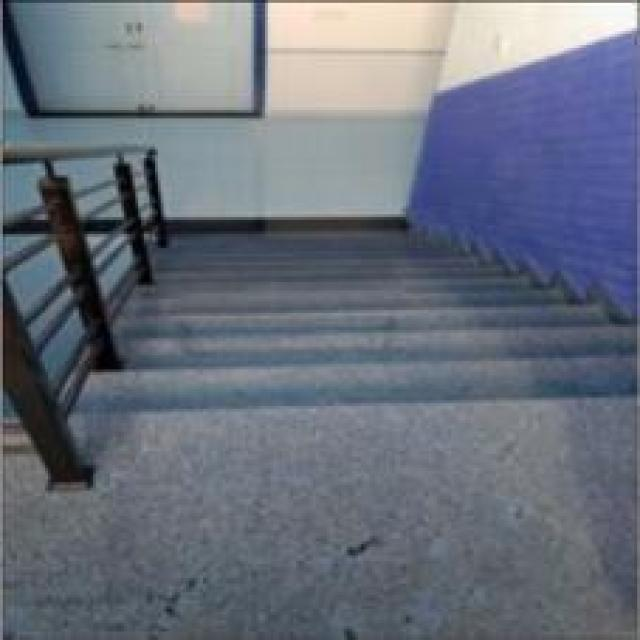downstair: (123, 289, 574, 489)
